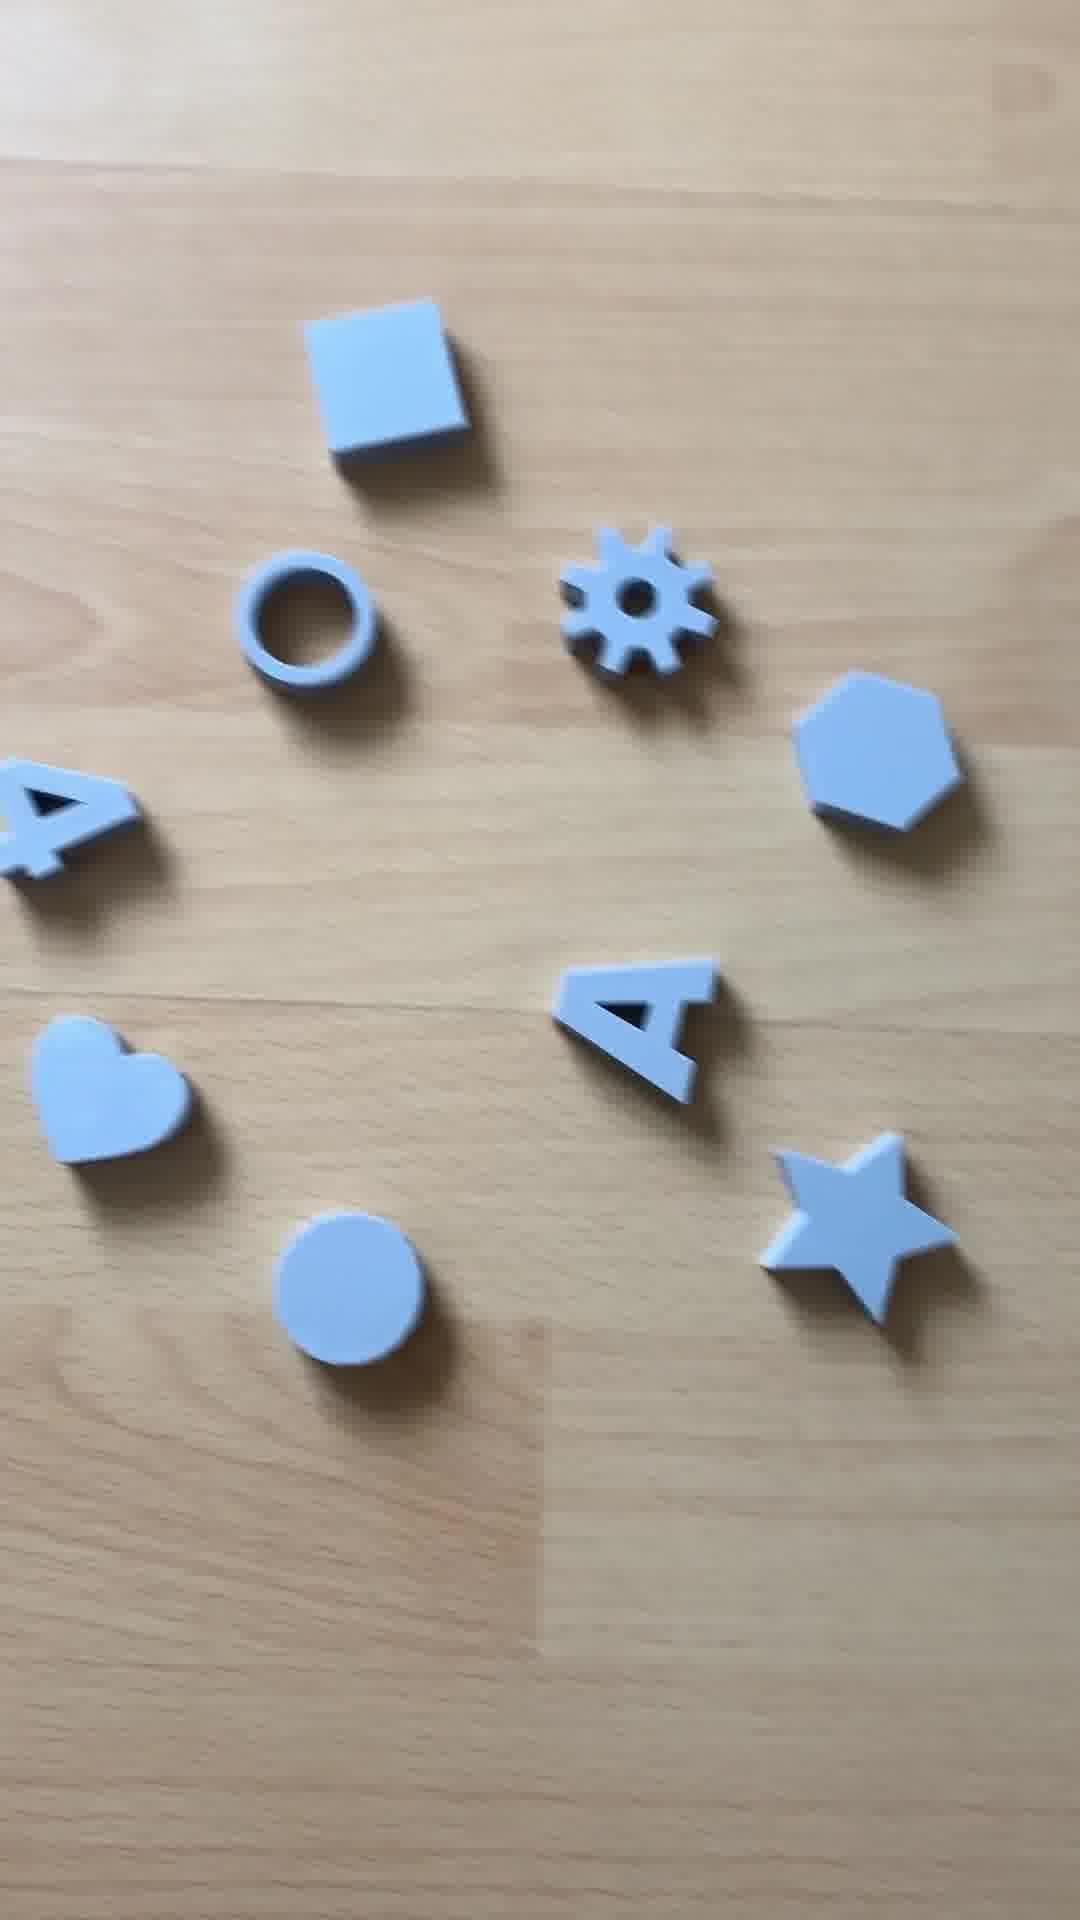Gray A-letter: (549, 953, 733, 1108)
Gray circle: (258, 1204, 436, 1373)
Gray four: (1, 756, 149, 895)
Gray gear: (553, 520, 723, 684)
Gray heart: (18, 1021, 198, 1168)
Gray hexagon: (793, 673, 971, 829)
Gray ring: (233, 549, 386, 702)
Gray square: (294, 297, 468, 485)
Gray star: (756, 1139, 942, 1324)
